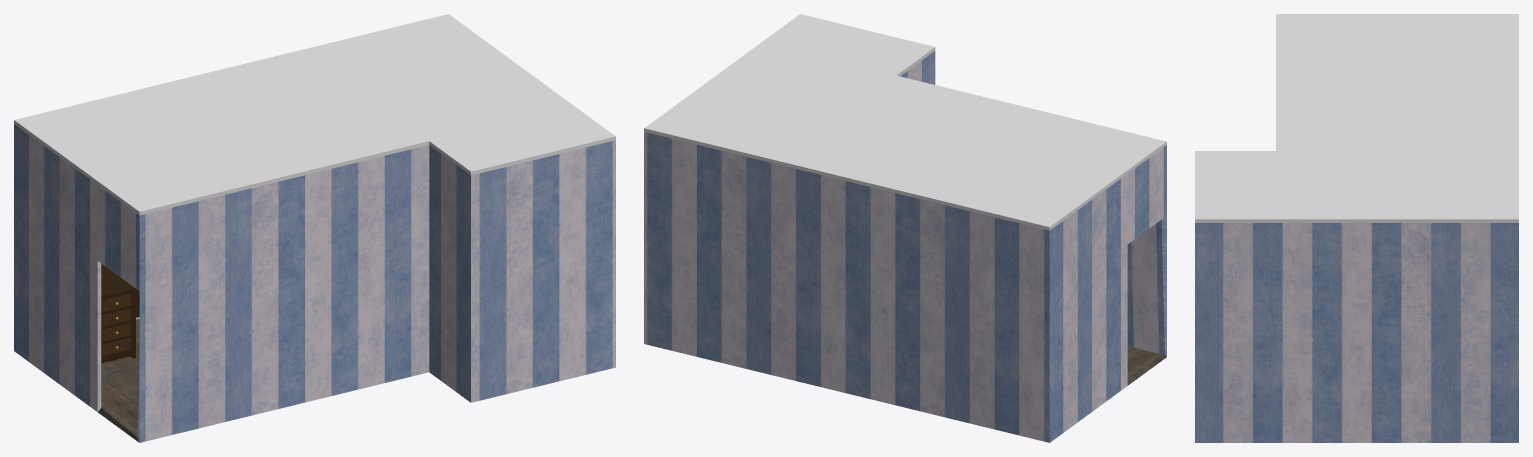
The model's file is bedroom1.glb.
3 views of the same model, side by side, from view 1: azimuth 30°, elevation 25°; view 2: azimuth 150°, elevation 25°; view 3: azimuth 270°, elevation 25° (orthographic). The views are drawn at different scales.
Visible parts, largest first — view 1: Plane, Ceiling, Desk; view 2: Plane, Ceiling; view 3: Plane, Ceiling.
Boxes of the visible parts, x1,y1,x2,y2 form: Plane: (14, 124, 615, 442); Ceiling: (14, 14, 615, 215); Desk: (101, 263, 139, 363); Plane: (644, 51, 1166, 442); Ceiling: (644, 14, 1166, 230); Plane: (1195, 223, 1518, 442); Ceiling: (1195, 14, 1518, 222).
Bounding box in the file's own units: 6 × 3.05 × 4.
Materials: 26 (3 with a texture image).
